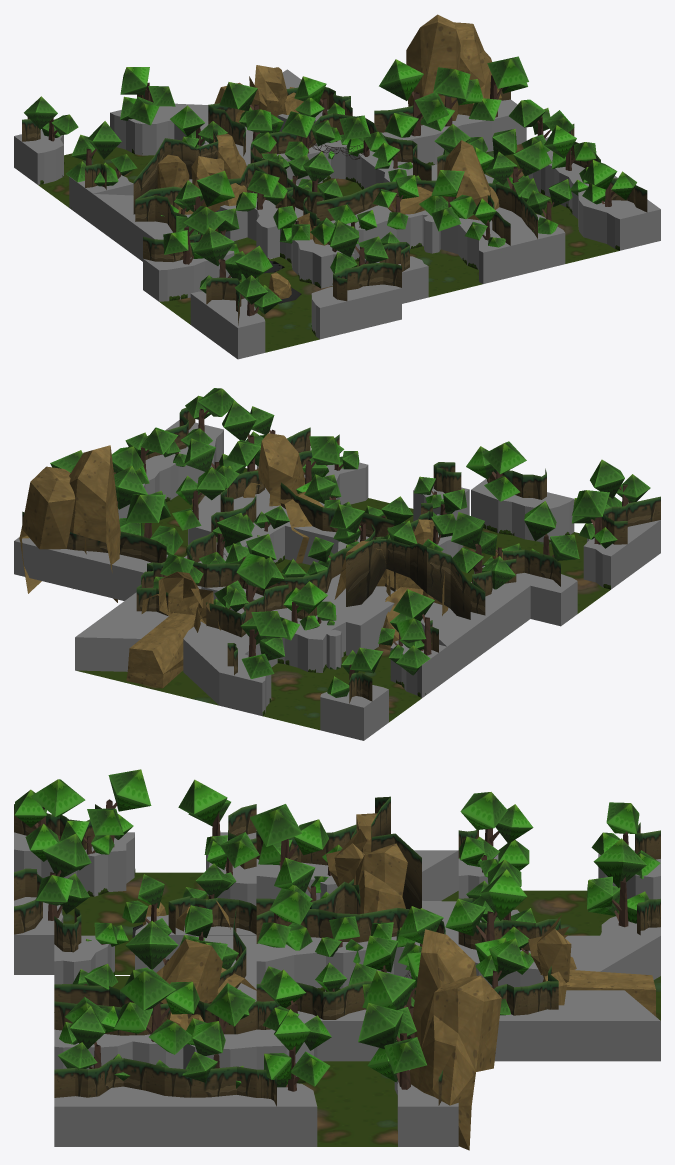
The model's file is yulin.fbx.
3 renders of one model, top to bottom at view 1: azimuth 30°, elevation 25°; view 2: azimuth 150°, elevation 25°; view 3: azimuth 270°, elevation 25°, orthographic. The views are drawn at different scales.
Visible parts, largest first — view 1: Three_shu02, Corner_shu02, end_shu01, Corner_pengzhuang01, Line_shu02, Line_pengzhuang01, Bigblock_shu01, Bigblock_pengzhuang04, Line_shu01, Home_shu03, Bigblock_dimian01, Bigblock_pengzhuang02 (+31 smaller); view 2: Three_shu02, end_shu01, Corner_shu02, Home_shu03, Three_pengzhuang01, Home_pengzhuang03, Bigblock_shu01, Line_shu02, Smallblock_dimian01, Monsterhole_pengzhuang01, Monsterhole_shu01, Bigblock_shu02 (+33 smaller); view 3: Three_shu02, end_shu01, Line_pengzhuang01, Monsterhole_pengzhuang01, Line_shu01, Line_shu02, Corner_shu02, Bigblock_shu01, Three_dimian01, end_pengzhuang02, Home_shu03, Monsterhole_shu01 (+34 smaller).
Part boxes in pixels (x1,y1,x2,y2): Three_shu02: (374, 14, 528, 137); Corner_shu02: (316, 140, 510, 247); end_shu01: (250, 111, 431, 214); Corner_pengzhuang01: (331, 205, 524, 283); Line_shu02: (474, 128, 572, 238); Line_pengzhuang01: (541, 159, 660, 250); Bigblock_shu01: (193, 227, 281, 325); Bigblock_pengzhuang04: (311, 284, 401, 339); Line_shu01: (544, 125, 647, 212); Home_shu03: (133, 129, 246, 214); Bigblock_dimian01: (159, 257, 332, 352); Bigblock_pengzhuang02: (190, 291, 265, 359); Three_shu02: (19, 445, 183, 602); end_shu01: (187, 495, 375, 595); Corner_shu02: (258, 433, 413, 563); Home_shu03: (334, 539, 470, 650); Three_pengzhuang01: (14, 537, 167, 600); Home_pengzhuang03: (420, 582, 530, 679); Bigblock_shu01: (572, 459, 660, 548); Line_shu02: (184, 400, 310, 499); Smallblock_dimian01: (263, 655, 421, 730); Monsterhole_pengzhuang01: (75, 586, 201, 671); Monsterhole_shu01: (206, 553, 288, 637); Bigblock_shu02: (475, 501, 579, 586); Three_shu02: (358, 929, 501, 1150); end_shu01: (256, 888, 445, 1019); Line_pengzhuang01: (54, 1086, 256, 1146); Monsterhole_pengzhuang01: (494, 990, 660, 1061); Line_shu01: (54, 1006, 256, 1097); Line_shu02: (54, 969, 256, 1054); Corner_shu02: (54, 905, 256, 1007); Bigblock_shu01: (14, 769, 151, 870); Three_dimian01: (299, 1061, 397, 1146); end_pengzhuang02: (256, 935, 458, 1061); Home_shu03: (355, 796, 421, 913); Monsterhole_shu01: (445, 869, 560, 974).
Size of the model in its own units: 16051 by 5483 by 16000.
